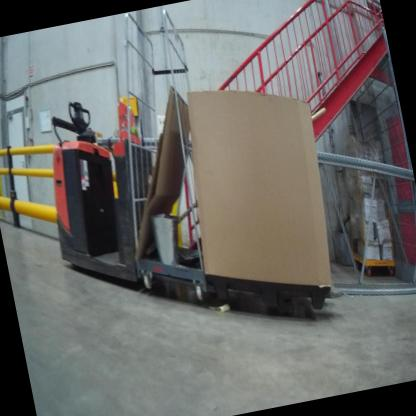pallet_truck: (21, 67, 209, 315)
